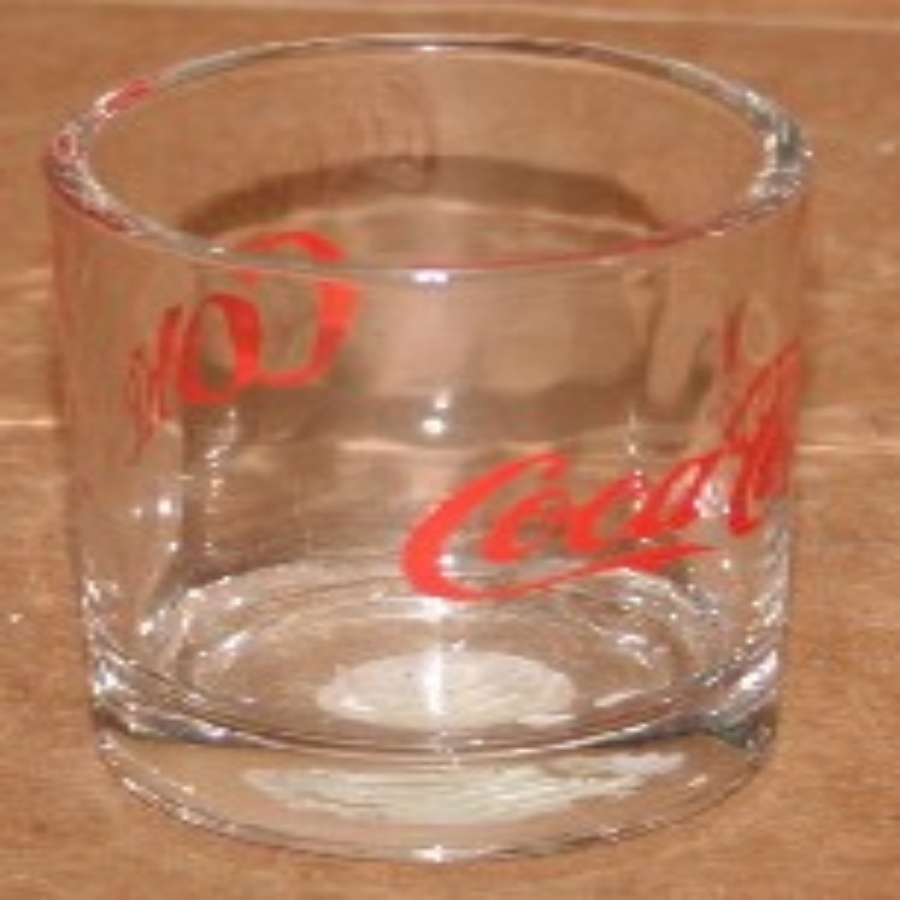whiskey: (44, 36, 805, 831)
